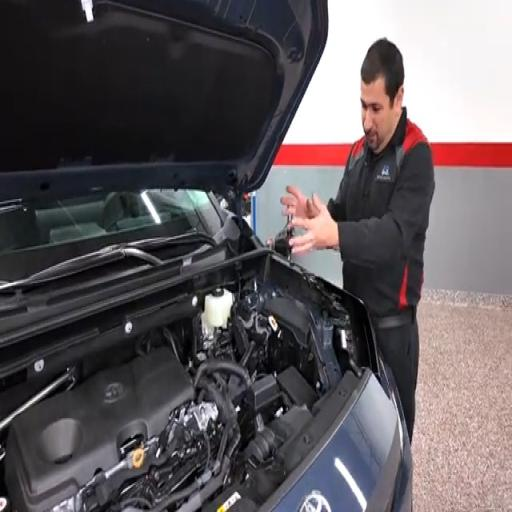bumper: (264, 375, 412, 511)
emblem: (300, 491, 331, 511), (104, 383, 123, 402)
hood: (0, 0, 327, 200)
window: (0, 190, 221, 255)
windshield: (0, 190, 221, 280)
